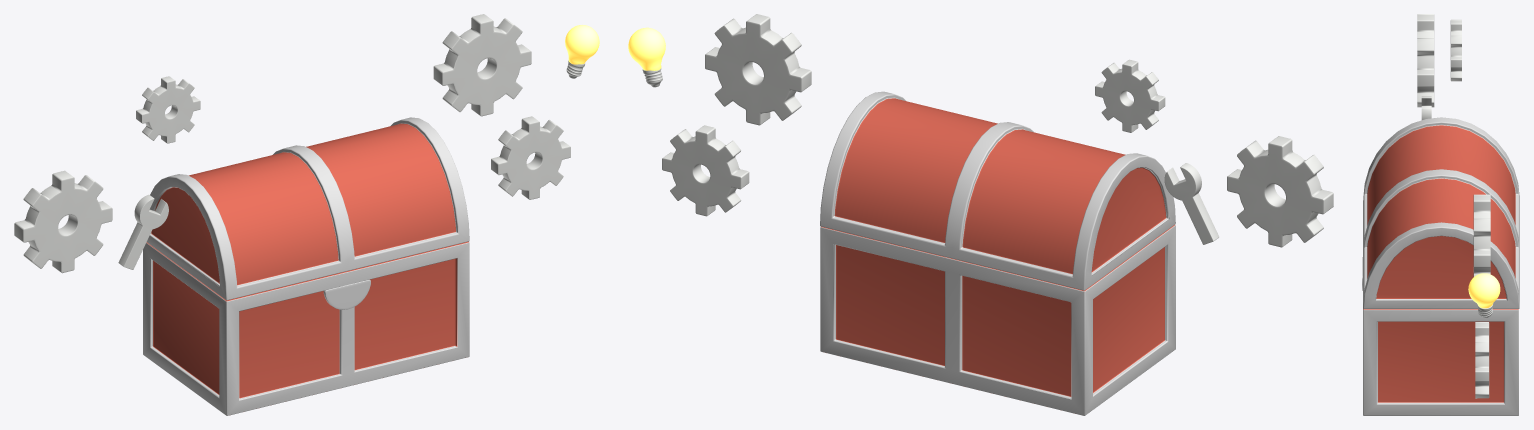
3 renders of one model, left to right at view 1: azimuth 30°, elevation 25°; view 2: azimuth 150°, elevation 25°; view 3: azimuth 270°, elevation 25°, orthographic. The views are drawn at different scales.
Parts seen in each view (by area): view 1: Cylinder, Cube, Cylinder.015, Cylinder.003, Cylinder.004, Cylinder.002, Cylinder.006, Sphere.004, Cylinder.001; view 2: Cylinder, Cube, Cylinder.003, Cylinder.015, Cylinder.004, Cylinder.002, Cylinder.006, Sphere.004; view 3: Cylinder, Cube, Cylinder.015, Cylinder.003, Cylinder.004, Sphere.004, Cylinder.002, Cylinder.006.
Boxes of the visible parts, <box> form: Cylinder: <box>147,117,469,300</box>; Cube: <box>143,241,469,415</box>; Cylinder.015: <box>14,170,112,273</box>; Cylinder.003: <box>433,14,531,116</box>; Cylinder.004: <box>491,116,570,199</box>; Cylinder.002: <box>136,76,200,143</box>; Cylinder.006: <box>118,194,168,269</box>; Sphere.004: <box>565,25,599,64</box>; Cylinder.001: <box>323,279,370,309</box>; Cylinder: <box>820,91,1175,290</box>; Cube: <box>820,225,1175,415</box>; Cylinder.003: <box>705,14,811,125</box>; Cylinder.015: <box>1227,136,1333,247</box>; Cylinder.004: <box>662,125,749,216</box>; Cylinder.002: <box>1095,59,1165,132</box>; Cylinder.006: <box>1164,163,1219,244</box>; Sphere.004: <box>628,27,665,70</box>; Cylinder: <box>1363,117,1519,308</box>; Cube: <box>1363,200,1518,415</box>; Cylinder.015: <box>1417,14,1434,107</box>; Cylinder.003: <box>1473,194,1490,276</box>; Cylinder.004: <box>1475,322,1489,398</box>; Sphere.004: <box>1468,273,1500,308</box>; Cylinder.002: <box>1450,19,1461,81</box>; Cylinder.006: <box>1421,96,1431,119</box>.
Bounding box in the file's own units: 1.73 × 0.8185 × 0.4167.
